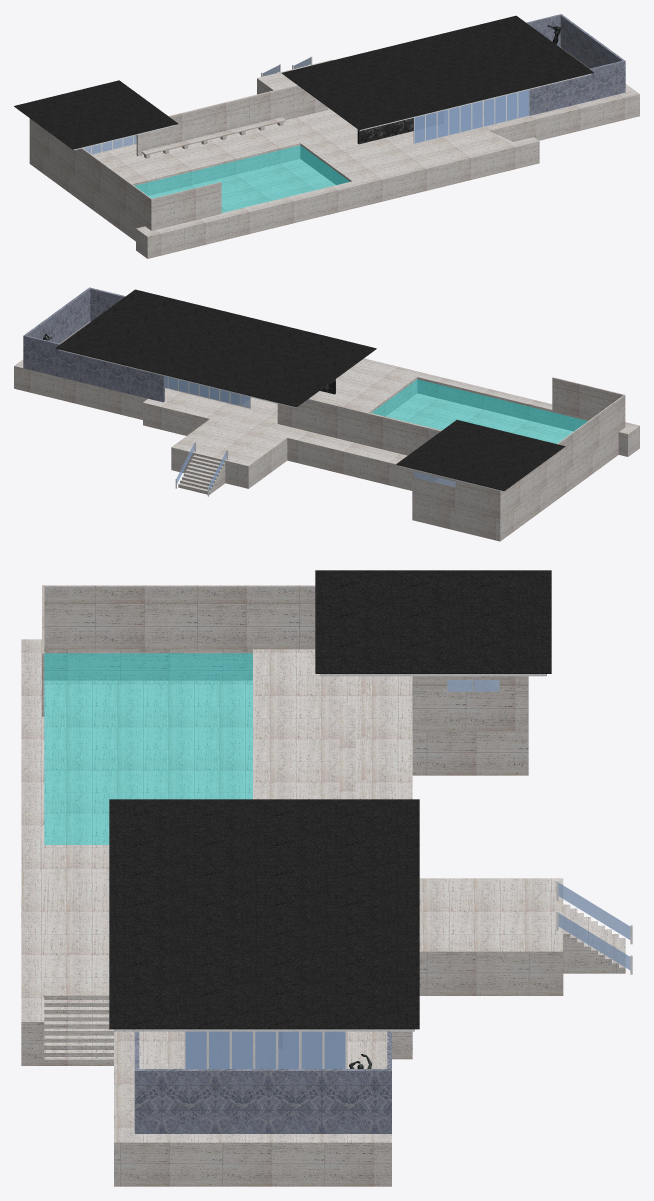
Rendered from low version pavillion_export V2 gltf.glb.
3 views of the same model, one above another, from view 1: azimuth 30°, elevation 25°; view 2: azimuth 150°, elevation 25°; view 3: azimuth 270°, elevation 25° (orthographic). The views are drawn at different scales.
Parts seen in each view (by area): view 1: group_3.001, group_23, group_4, group_20, group_0, group_1, group_5, group_3.013, group_3.014, group_6, group_27, group_8 (+2 smaller); view 2: group_3.001, group_23, group_20, group_5, group_4, group_0, group_1, group_3.013, group_3.014, group_12, group_13, group_9.001 (+1 smaller); view 3: group_3.001, group_23, group_4, group_3.013, group_20, group_0, group_5, group_3.014, group_12, group_3, group_7.001, group_13 (+4 smaller).
Part boxes in pixels (bbox=[...]): group_3.001: bbox=[29, 59, 639, 258]; group_23: bbox=[282, 15, 593, 129]; group_4: bbox=[135, 145, 349, 212]; group_20: bbox=[14, 80, 178, 149]; group_0: bbox=[29, 118, 221, 230]; group_1: bbox=[136, 85, 328, 155]; group_5: bbox=[526, 14, 625, 115]; group_3.013: bbox=[148, 159, 335, 212]; group_3.014: bbox=[132, 143, 351, 195]; group_6: bbox=[415, 90, 528, 142]; group_27: bbox=[141, 117, 285, 155]; group_8: bbox=[357, 118, 413, 144]; group_3.001: bbox=[14, 358, 639, 541]; group_23: bbox=[55, 289, 376, 407]; group_20: bbox=[396, 420, 565, 490]; group_5: bbox=[23, 287, 164, 402]; group_4: bbox=[372, 379, 587, 443]; group_0: bbox=[499, 377, 625, 518]; group_1: bbox=[277, 398, 441, 455]; group_3.013: bbox=[386, 393, 573, 443]; group_3.014: bbox=[369, 377, 589, 431]; group_12: bbox=[412, 470, 498, 518]; group_13: bbox=[178, 455, 225, 494]; group_9.001: bbox=[165, 377, 238, 404]; group_3.001: bbox=[21, 639, 563, 1186]; group_23: bbox=[109, 799, 419, 1029]; group_4: bbox=[44, 653, 252, 844]; group_3.013: bbox=[44, 680, 252, 844]; group_20: bbox=[315, 570, 551, 673]; group_0: bbox=[42, 585, 315, 716]; group_5: bbox=[134, 1031, 391, 1133]; group_3.014: bbox=[44, 649, 252, 680]; group_12: bbox=[412, 676, 528, 731]; group_3: bbox=[44, 731, 528, 1065]; group_7.001: bbox=[186, 1032, 344, 1068]; group_13: bbox=[563, 904, 625, 973].
Size of what is drawn, in the model's own units: 51.5 by 5.35 by 26.4.
13 materials, 9 textured.
